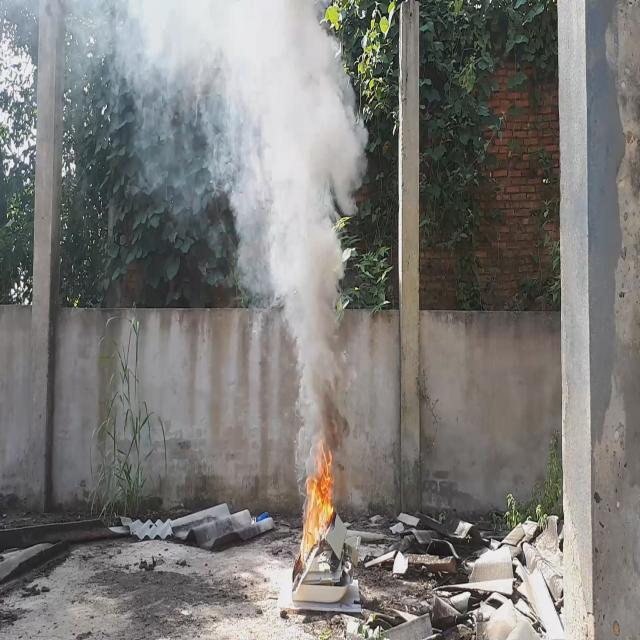Fire: (300, 438, 336, 574)
Smoke: (0, 0, 372, 485)
